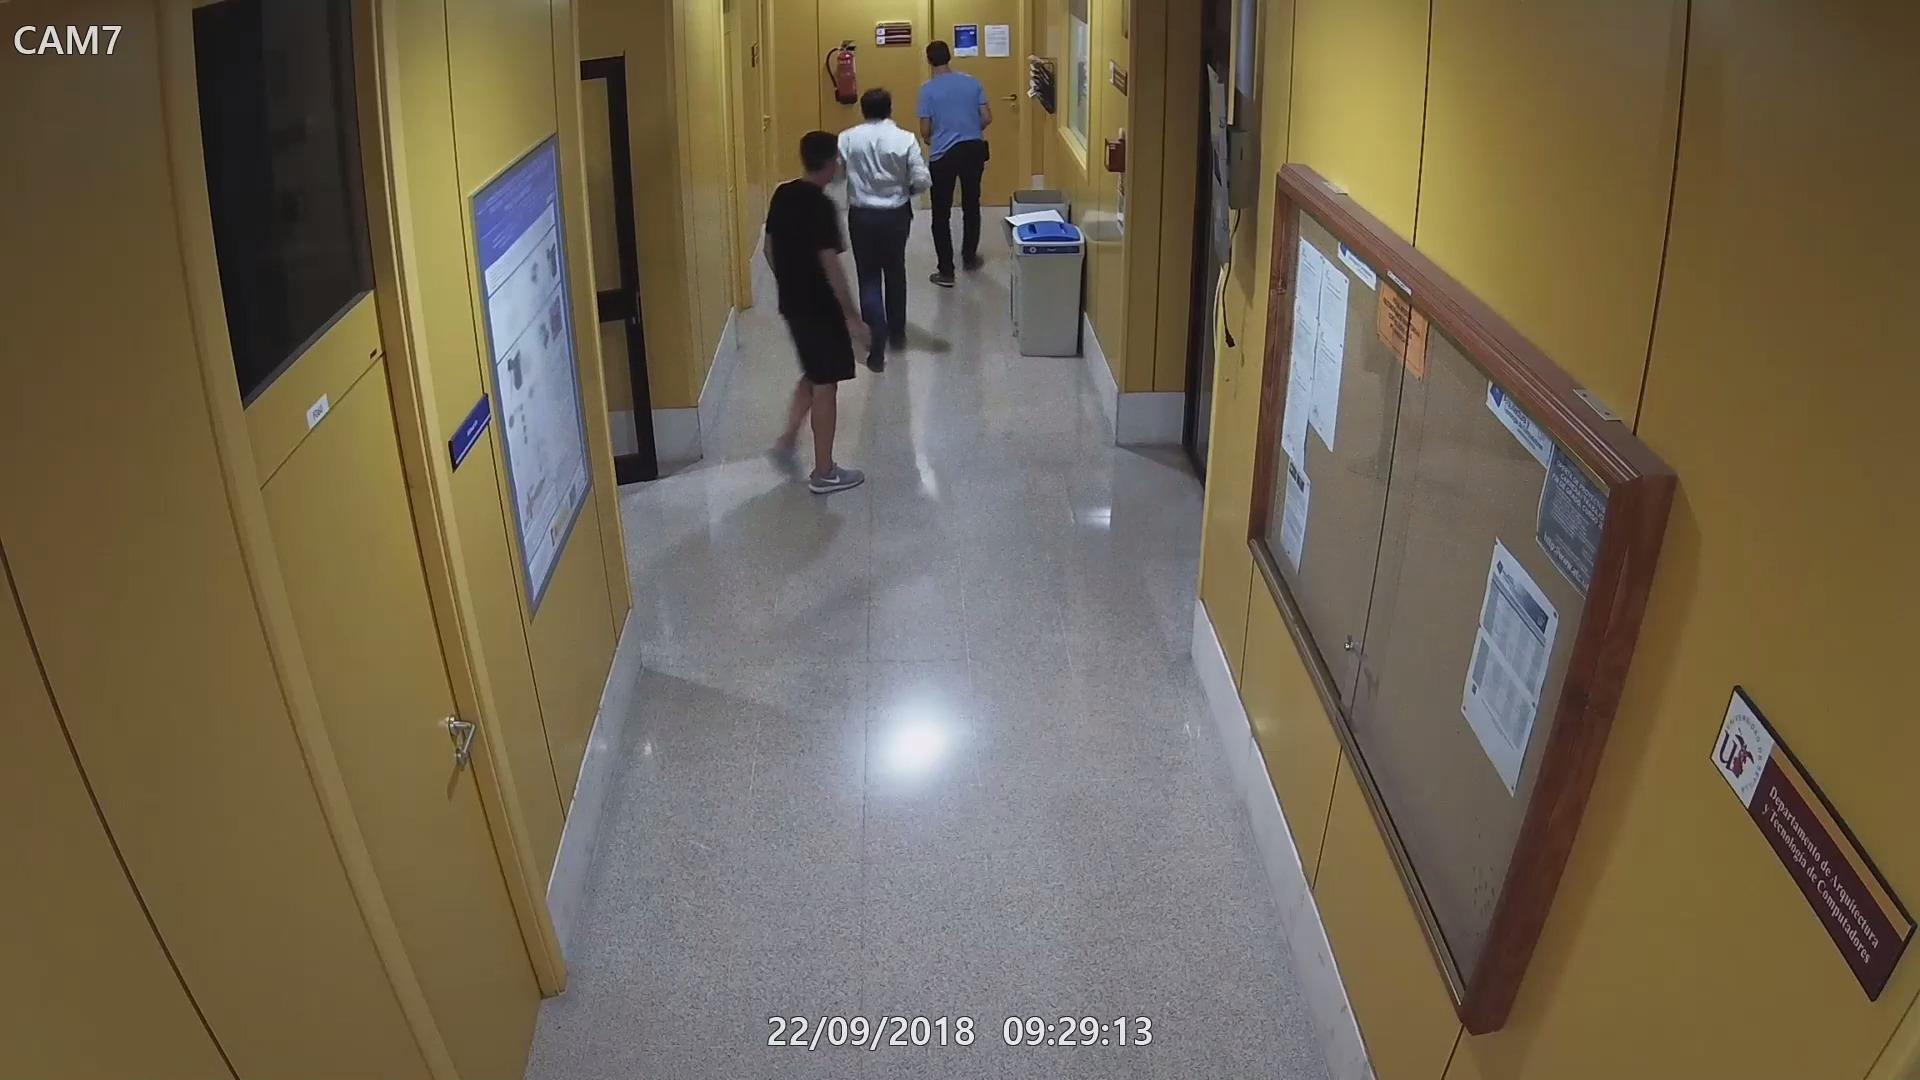Handgun: (855, 314, 880, 353)
